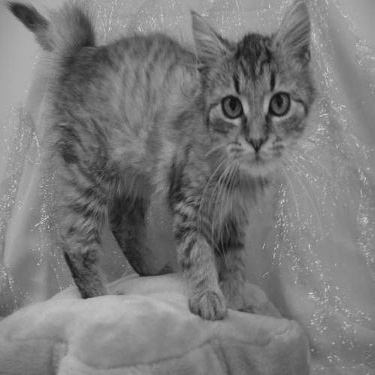cat: (31, 28, 325, 317)
